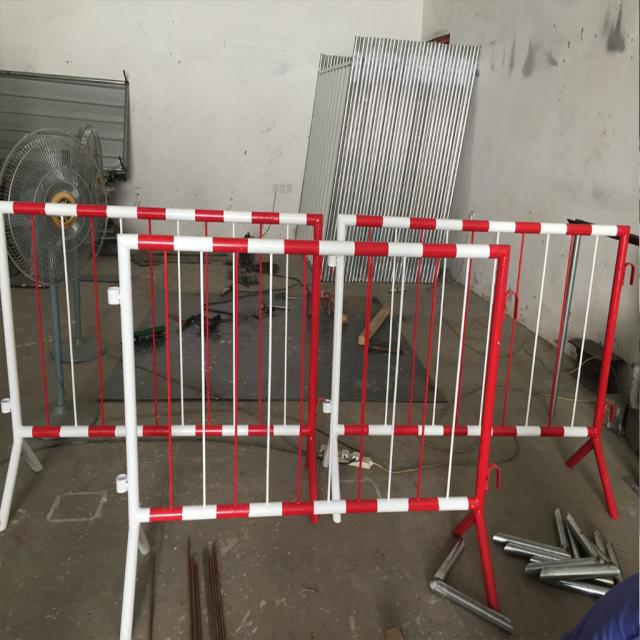cone: (1, 201, 634, 637)
